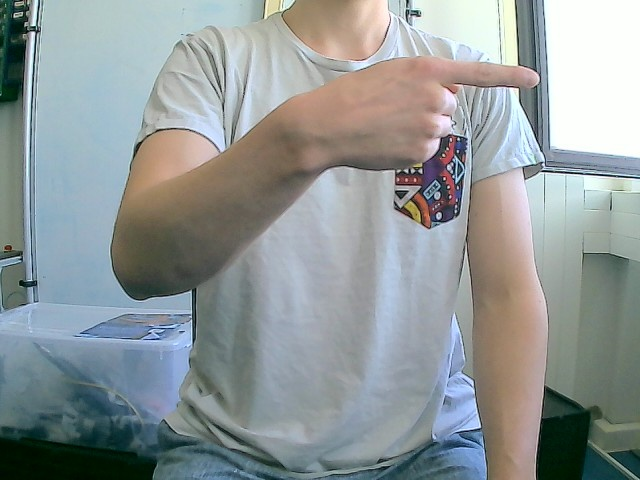left: (310, 54, 540, 174)
